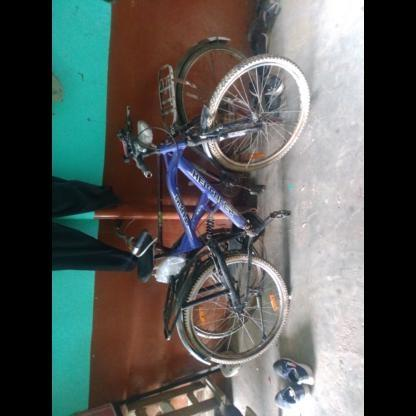Bicycle: (112, 28, 311, 406)
